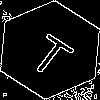T: (25, 25, 81, 81)
